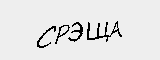А: (106, 19, 123, 43)
Р: (54, 22, 70, 48)
С: (37, 24, 56, 51)
Щ: (87, 21, 111, 44)
Э: (66, 19, 82, 44)
